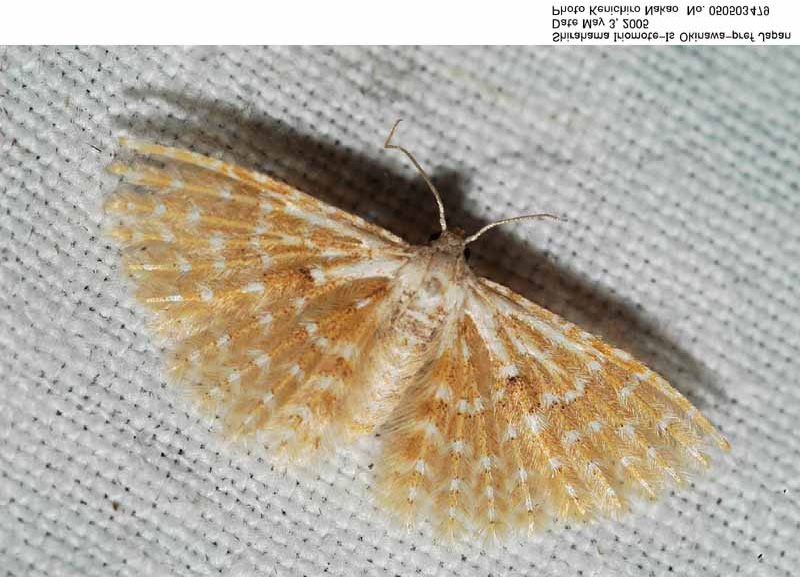Alucitidae: (102, 97, 742, 537)
moth: (104, 99, 744, 539)
